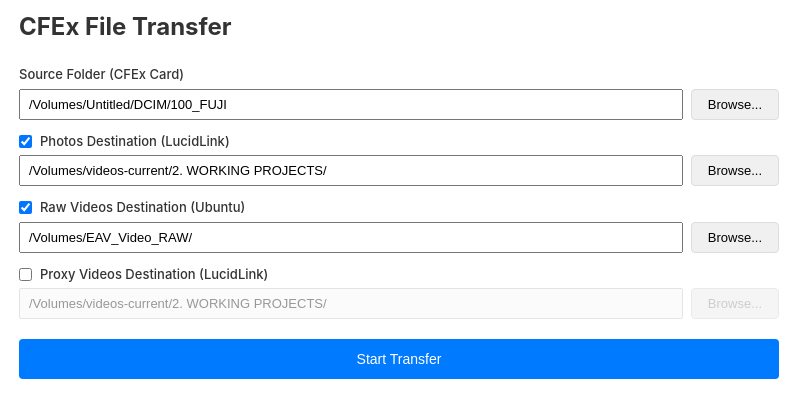
CfexTransferWindow › Proxy Videos Destination UI › enables proxy input when checkbox checked
// Check proxy checkbox
What coordinates should you click on to do the following:
click the checkbox named "Proxy Videos Destination (LucidLink)"
I would click on:
 (26, 274)
Its box is [19,268,32,281].
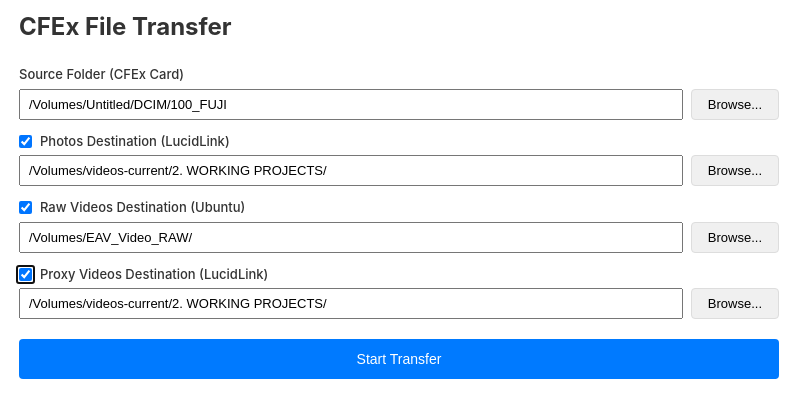
Expected: the field with placeholder "/Volumes/LucidLink/videos-proxy" is enabled, [19,288,683,319]
Expected: the 4th button "Browse..." is enabled, [691,288,779,319]
